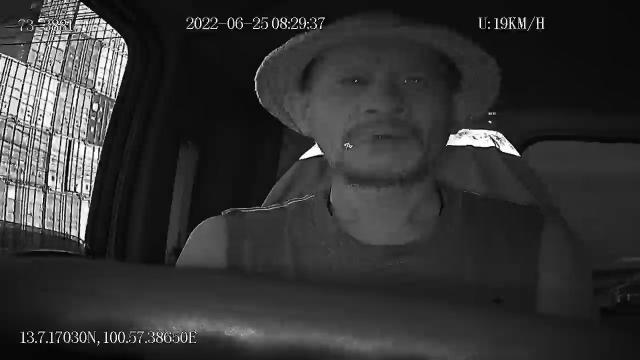SafeDriving: (332, 66, 373, 93), (391, 68, 430, 93)
Smoking: (342, 131, 373, 151)
